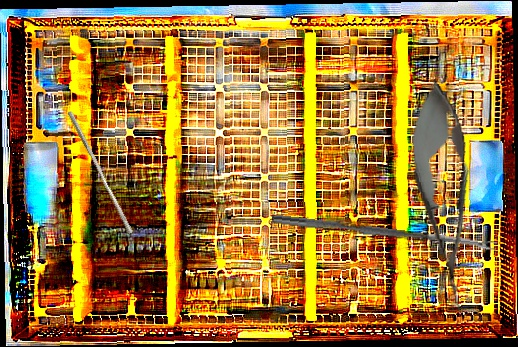Micro Scissor: (402, 76, 487, 315)
Pusher: (62, 110, 138, 235)
Surgical Spoon: (271, 214, 497, 252)
